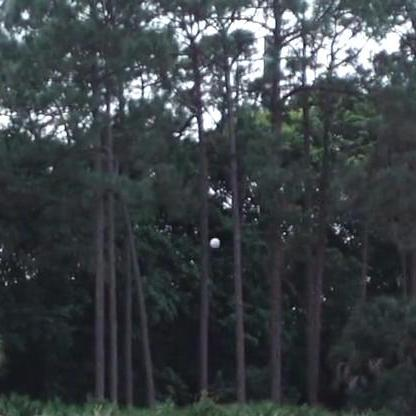golfball: (207, 237, 218, 247)
